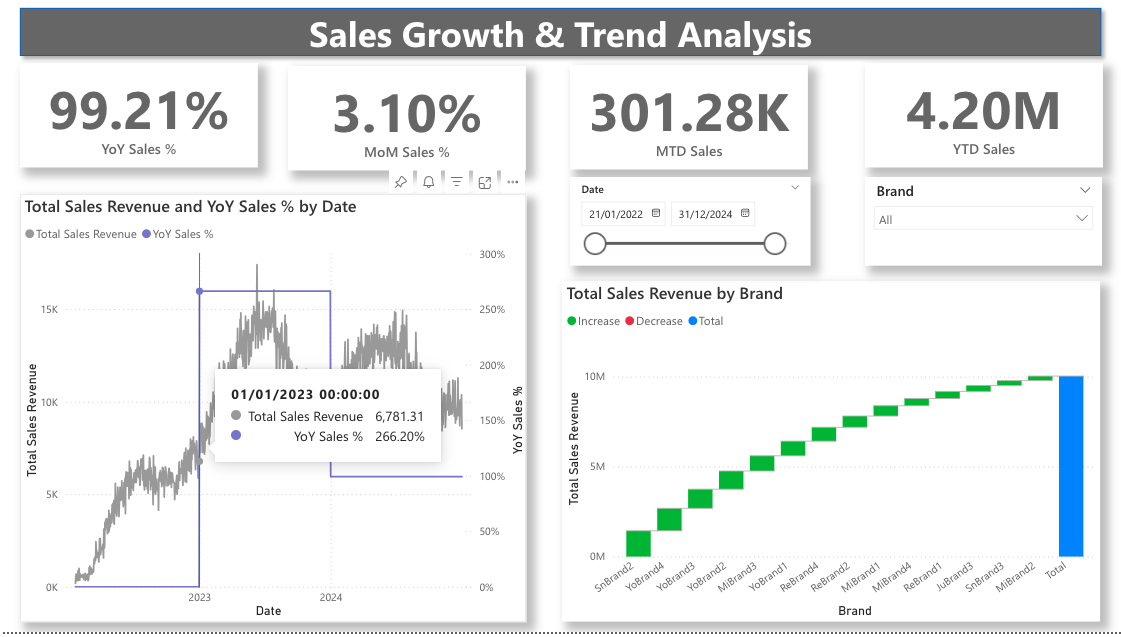

What the dashboard file says about the page in this screenshot:
{"tool":"powerbi","page":{"name":"Growth & Trend Analysis","canvas":[1280,720],"ordinal":2},"visuals":[{"type":"shape","title":"Executive Sales & Inventory Overview","box":[14.2,0,1249.9,72.8],"z":0},{"type":"card","fields":{"Values":["Measure Table.YoY Sales %"]},"box":[23.2,71.9,271.3,118.6],"z":1000},{"type":"card","fields":{"Values":["Measure Table.MoM Sales %"]},"box":[328.5,75,271.3,118.6],"z":2000},{"type":"card","fields":{"Values":["Measure Table.MTD Sales"]},"box":[648.9,73.6,271.3,118.6],"z":3000},{"type":"card","fields":{"Values":["Measure Table.YTD Sales"]},"box":[985.6,72.2,271.3,118.6],"z":4000},{"type":"lineChart","fields":{"Category":["gold_sales_gold_for_bi.date"],"Y":["Measure Table.Total Sales Revenue"],"Y2":["Measure Table.YoY Sales %"]},"box":[23.2,220.8,576.6,488],"z":5000},{"type":"waterfallChart","fields":{"Category":["gold_sales_gold_for_bi.brand"],"Y":["Measure Table.Total Sales Revenue"]},"box":[640.7,320.3,613.4,388.5],"z":6000},{"type":"slicer","fields":{"Values":["gold_sales_gold_for_bi.date"]},"box":[648.9,201.7,274,100.9],"z":7000},{"type":"slicer","fields":{"Values":["gold_sales_gold_for_bi.brand"]},"box":[985.6,201.7,269.9,100.9],"z":8000}]}

Visuals, with their boxes in screenshot pixels (x1, y1, x2, y2), scaled from the page's 1280x720 canvas onto the 1121x637 screenshot:
"Executive Sales & Inventory Overview" shape: (left=12, top=0, right=1107, bottom=64)
card - Measure Table.YoY Sales %: (left=20, top=64, right=258, bottom=169)
card - Measure Table.MoM Sales %: (left=288, top=66, right=525, bottom=171)
card - Measure Table.MTD Sales: (left=568, top=65, right=806, bottom=170)
card - Measure Table.YTD Sales: (left=863, top=64, right=1101, bottom=169)
lineChart - gold_sales_gold_for_bi.date x Measure Table.Total Sales Revenue: (left=20, top=195, right=525, bottom=627)
waterfallChart - gold_sales_gold_for_bi.brand x Measure Table.Total Sales Revenue: (left=561, top=283, right=1098, bottom=627)
slicer - gold_sales_gold_for_bi.date: (left=568, top=178, right=808, bottom=268)
slicer - gold_sales_gold_for_bi.brand: (left=863, top=178, right=1100, bottom=268)
